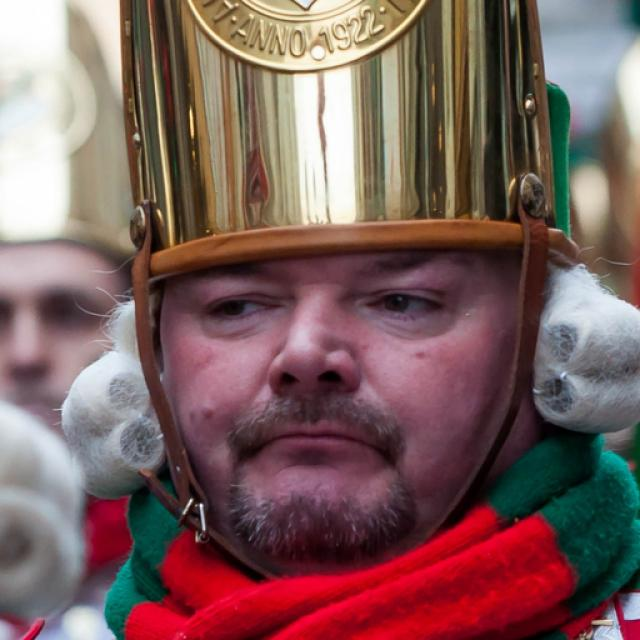Acne: (404, 341, 432, 369), (196, 403, 219, 423)
